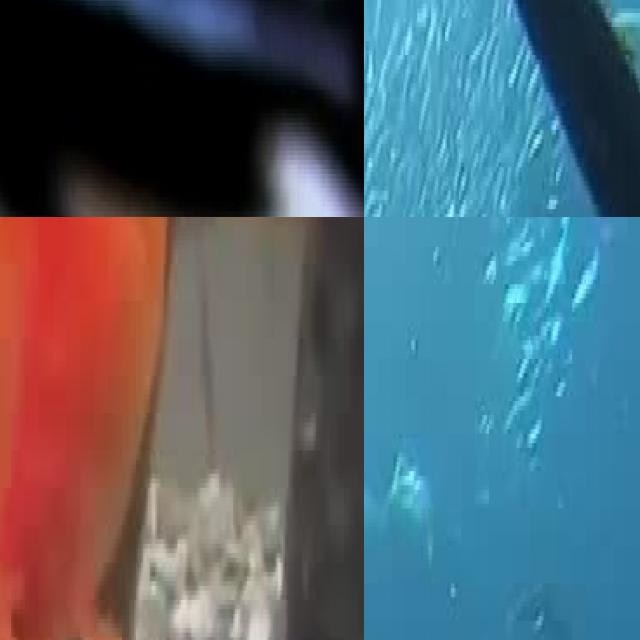fish: (0, 0, 364, 217), (0, 226, 97, 640)
